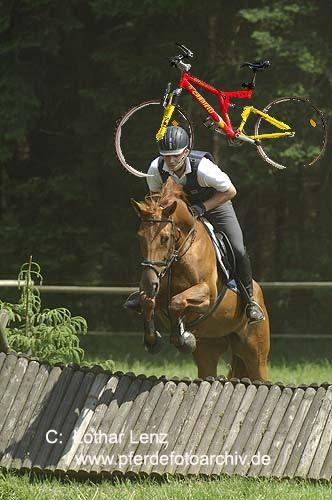tampered: (115, 44, 327, 177)
